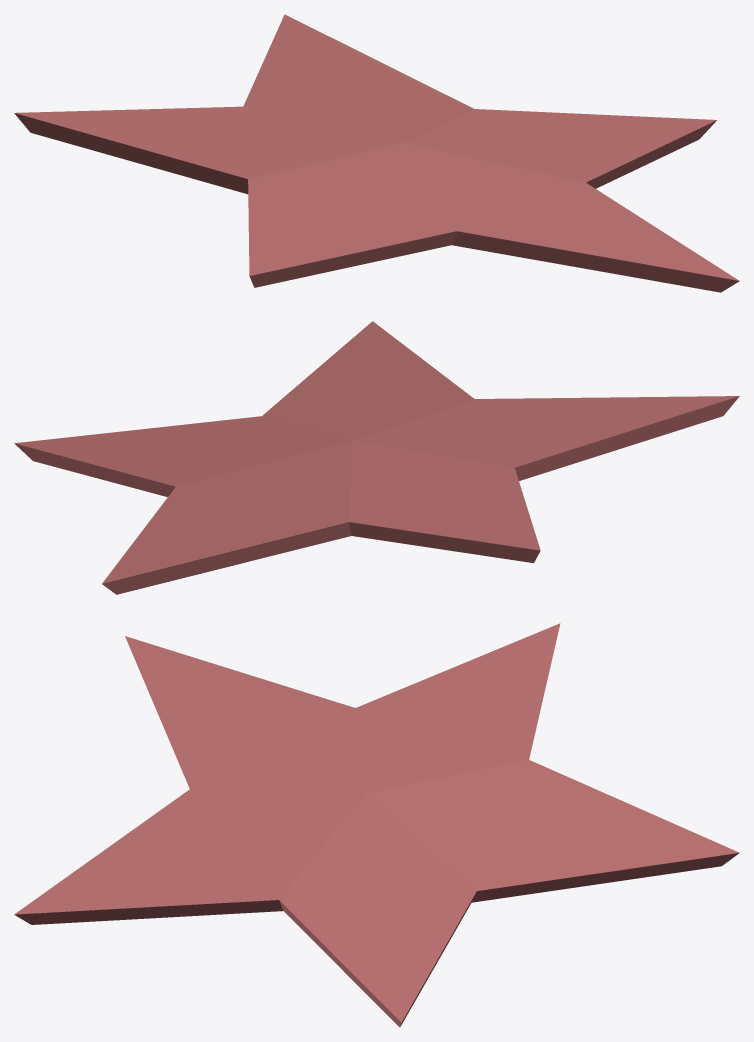
Rendered from bintang laut.fbx.
The picture shows the model from 3 angles, top to bottom: view 1: azimuth 30°, elevation 25°; view 2: azimuth 150°, elevation 25°; view 3: azimuth 270°, elevation 25°; orthographic projection. The views are drawn at different scales.
Parts seen in each view (by area): view 1: BINTANG LAUT; view 2: BINTANG LAUT; view 3: BINTANG LAUT.
Part boxes in pixels (x1,y1,x2,y2): BINTANG LAUT: (14,14,739,292); BINTANG LAUT: (14,321,739,594); BINTANG LAUT: (14,623,739,1027).
Size of the model in its own units: 46.1 by 8.1 by 47.06.
